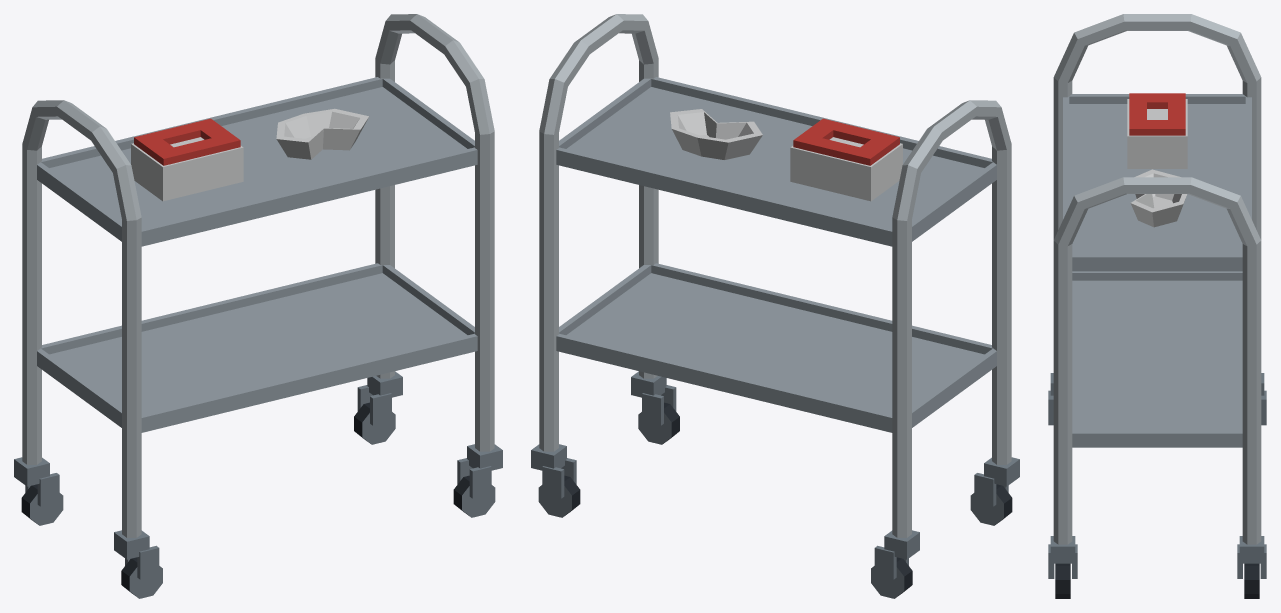
File: instrument-trolley-bb1ff7.glb
3 views of the same model, side by side, from view 1: azimuth 30°, elevation 25°; view 2: azimuth 150°, elevation 25°; view 3: azimuth 270°, elevation 25° (orthographic). The views are drawn at different scales.
Parts seen in each view (by area): view 1: instrument-trolley, sharps-tray, kidney-dish, caster-fr, caster-rr, caster-rl, caster-fl, wheel-fr, wheel-rl, wheel-fl, wheel-rr; view 2: instrument-trolley, sharps-tray, kidney-dish, caster-rr, caster-fr, caster-fl, caster-rl, wheel-rr, wheel-fl, wheel-rl, wheel-fr; view 3: instrument-trolley, sharps-tray, kidney-dish, caster-fr, caster-rr, wheel-fr, wheel-rr.
Part boxes in pixels (box(x1,y1,x2,y2)): instrument-trolley: box(22, 14, 494, 537); sharps-tray: box(131, 118, 243, 201); kidney-dish: box(276, 108, 369, 159); caster-fr: box(457, 444, 502, 498); caster-rr: box(357, 371, 402, 425); caster-rl: box(14, 457, 59, 506); caster-fl: box(114, 530, 159, 579); wheel-fr: box(453, 475, 495, 517); wheel-rl: box(21, 484, 63, 525); wheel-fl: box(121, 557, 162, 598); wheel-rr: box(354, 402, 395, 444); instrument-trolley: box(539, 14, 1011, 537); sharps-tray: box(790, 118, 902, 201); kidney-dish: box(670, 109, 762, 159); caster-rr: box(531, 444, 576, 498); caster-fr: box(631, 371, 676, 425); caster-fl: box(974, 457, 1019, 506); caster-rl: box(874, 530, 919, 579); wheel-rr: box(538, 475, 580, 517); wheel-fl: box(970, 484, 1012, 525); wheel-rl: box(871, 557, 912, 598); wheel-fr: box(638, 402, 679, 444); instrument-trolley: box(1053, 14, 1261, 544); sharps-tray: box(1127, 93, 1187, 168); kidney-dish: box(1130, 169, 1187, 227); caster-fr: box(1048, 536, 1077, 578); caster-rr: box(1237, 536, 1266, 578); wheel-fr: box(1055, 563, 1070, 598); wheel-rr: box(1244, 563, 1259, 598).
Bounding box in the file's own units: 0.792 × 0.9 × 0.42.
